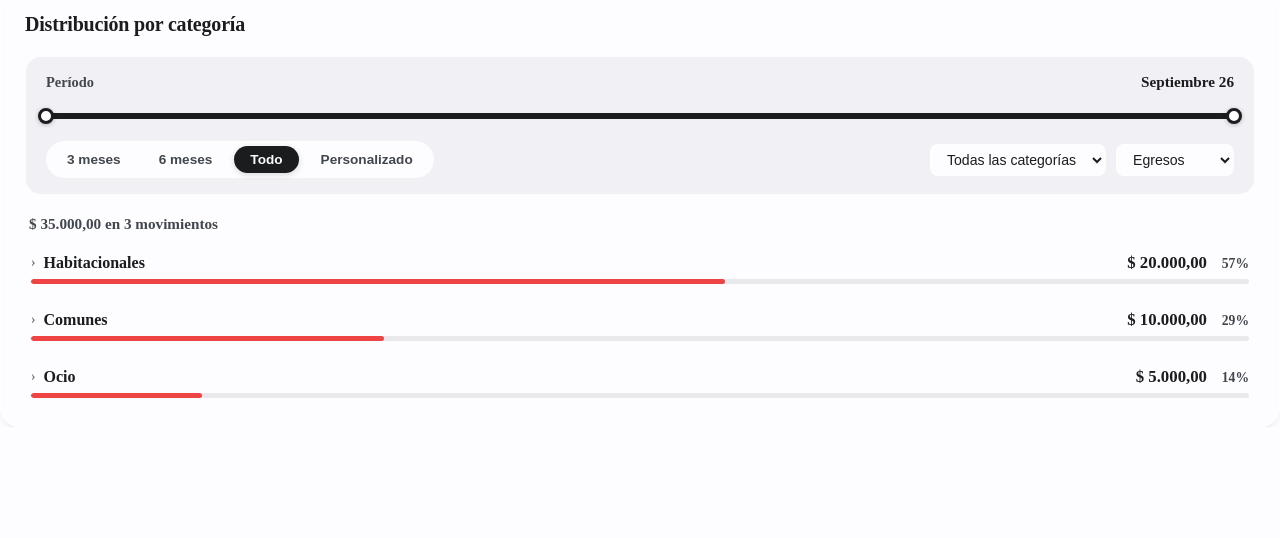
it: CategoryDistributionCard - Interactive Draggable Range Slider › correctly synchronizes selectedCategory dropdown when expanding and collapsing multiple categories
This screenshot has width=1280, height=538.
Check: the dropdown named "filtrar por categoría" shows "Todas las categorías", box x1=930 y1=144 x2=1106 y2=176
Click the button titled "Ver desglose de Comunes" at (76, 320), box x1=25 y1=306 x2=1255 y2=345
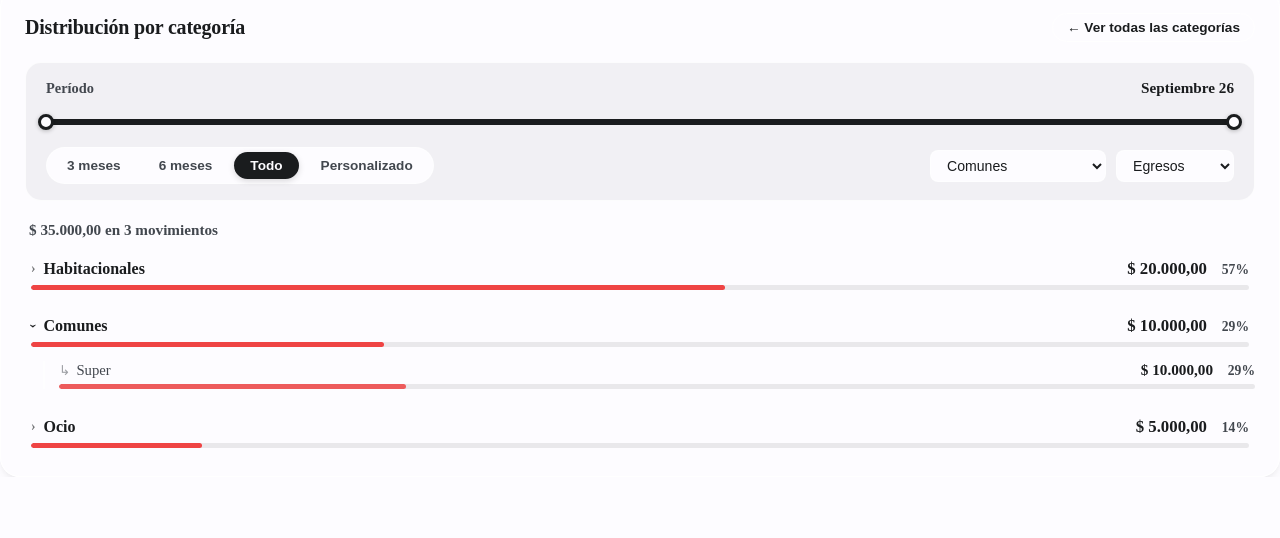
Check: the dropdown named "filtrar por categoría" shows "Comunes", box x1=930 y1=150 x2=1106 y2=182
Click the button titled "Ver desglose de Habitacionales" at (94, 268), box x1=25 y1=255 x2=1255 y2=294
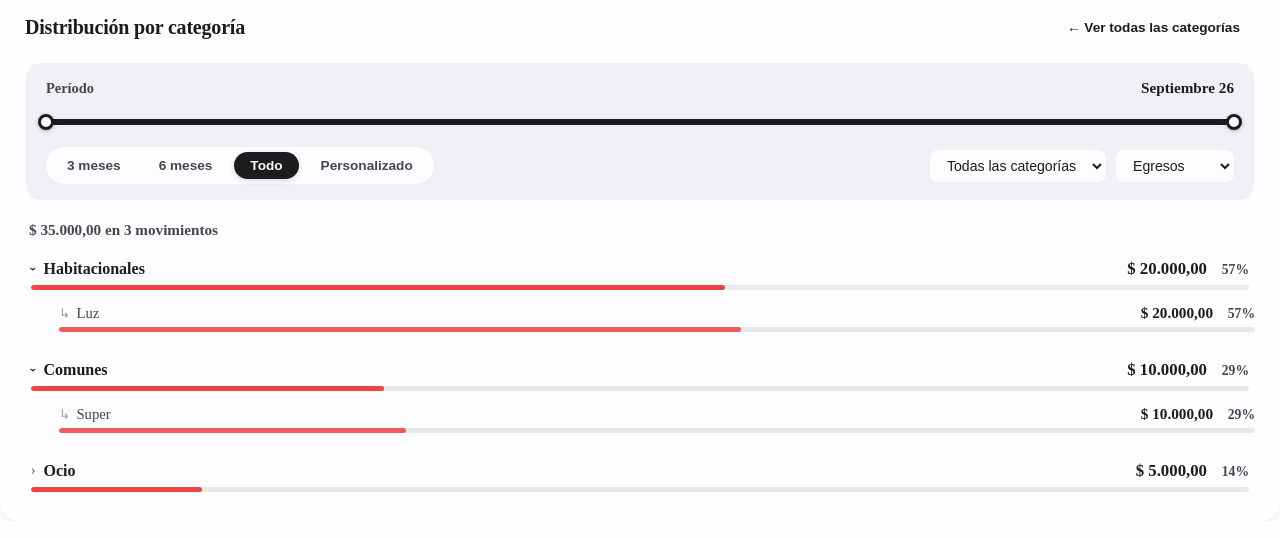
Check: the dropdown named "filtrar por categoría" shows "Todas las categorías", box x1=930 y1=150 x2=1106 y2=182
Click the button titled "Contraer desglose de Habitacionales" at (94, 268), box x1=25 y1=255 x2=1255 y2=294
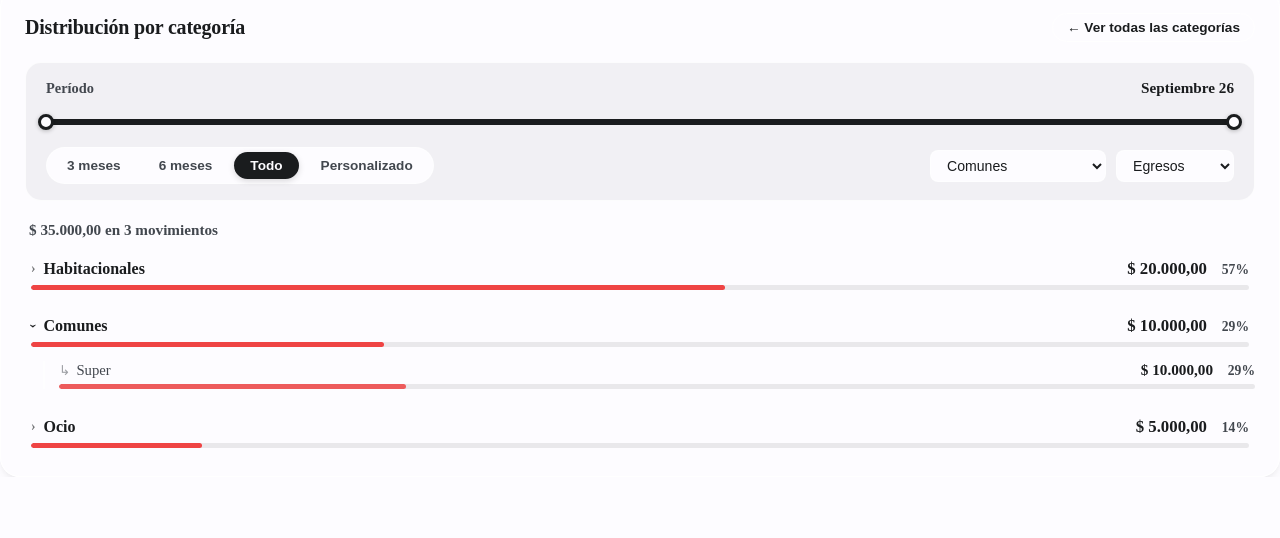
Check: the text "Super" is shown, box x1=76 y1=362 x2=111 y2=378
Check: the dropdown named "filtrar por categoría" shows "Comunes", box x1=930 y1=150 x2=1106 y2=182
